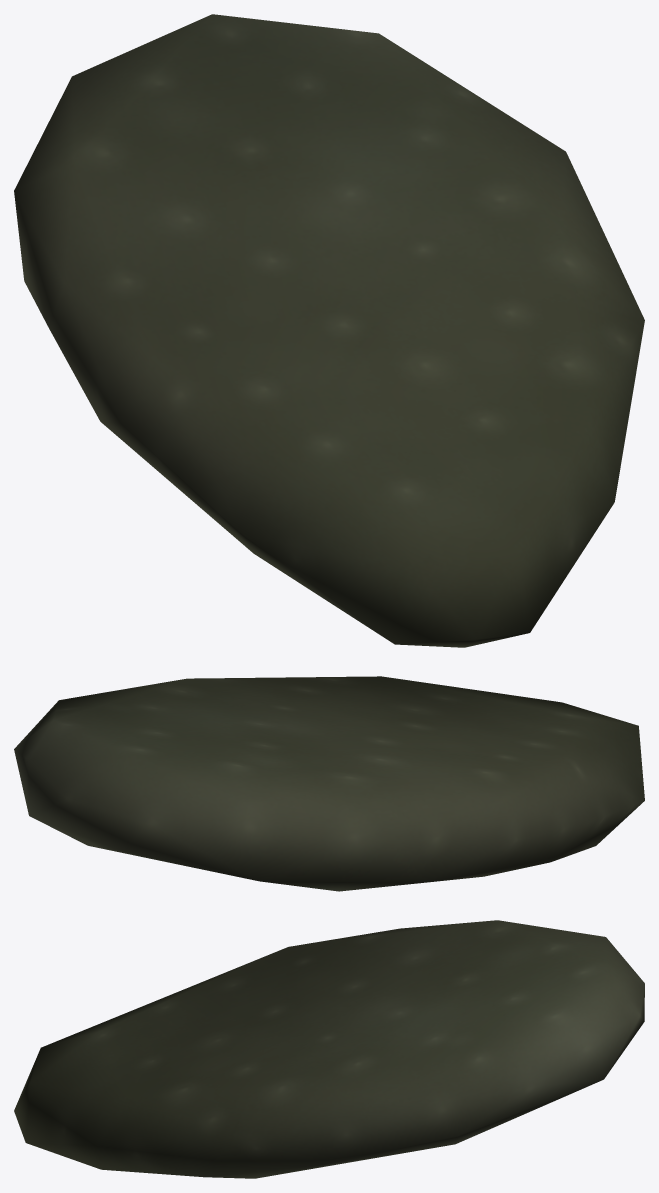
File: DE_Cactus_C_Part_01.fbx
3 renders of one model, top to bottom at view 1: azimuth 30°, elevation 25°; view 2: azimuth 150°, elevation 25°; view 3: azimuth 270°, elevation 25°, orthographic. The views are drawn at different scales.
Visible parts, largest first — view 1: DE_Cactus_C_Part_01; view 2: DE_Cactus_C_Part_01; view 3: DE_Cactus_C_Part_01.
Part boxes in pixels (x1,y1,x2,y2): DE_Cactus_C_Part_01: [14, 14, 644, 647]; DE_Cactus_C_Part_01: [14, 676, 644, 891]; DE_Cactus_C_Part_01: [14, 920, 644, 1178].
Bounding box in the file's own units: 0.4637 × 0.2636 × 0.6729.
